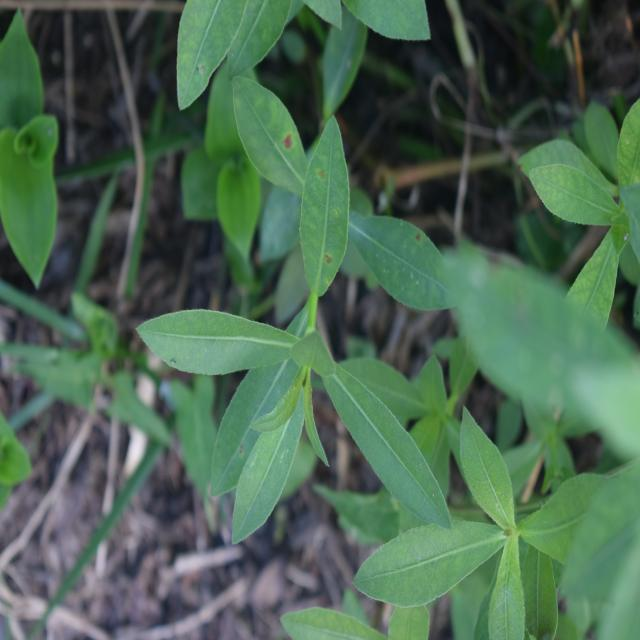Alligatorweed: (149, 85, 463, 548)
